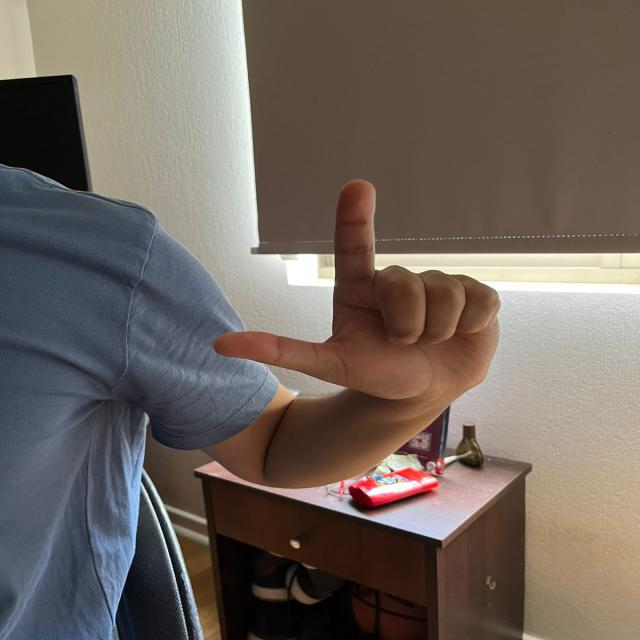L: (213, 174, 507, 400)
